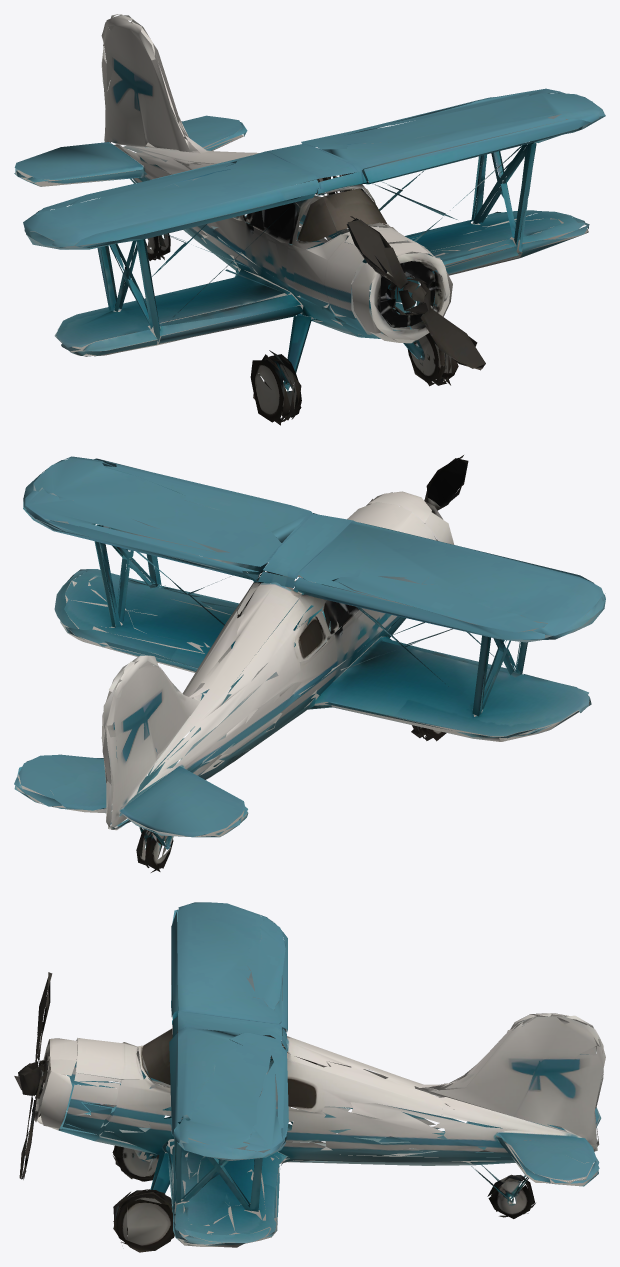
Rendered from prop-biplane.glb.
3 views of the same model, one above another, from view 1: azimuth 30°, elevation 25°; view 2: azimuth 150°, elevation 25°; view 3: azimuth 270°, elevation 25° (orthographic). The views are drawn at different scales.
Visible parts, largest first — view 1: node_0; view 2: node_0; view 3: node_0.
Boxes of the visible parts, box(x1,y1,x2,y2) form: node_0: box(14, 14, 605, 425); node_0: box(14, 455, 605, 872); node_0: box(14, 902, 605, 1252).
Bounding box in the file's own units: 9.74 × 4.02 × 9.72.
Materials: 1 (1 with a texture image).
